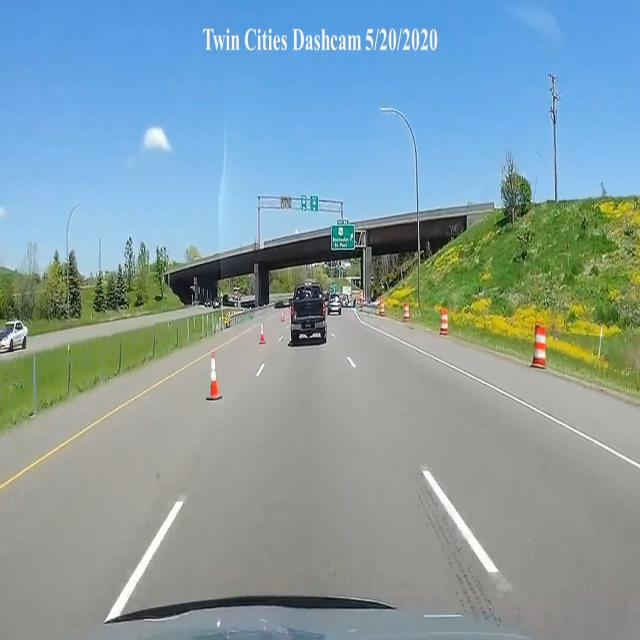cone: (204, 352, 223, 400), (258, 324, 266, 346)
